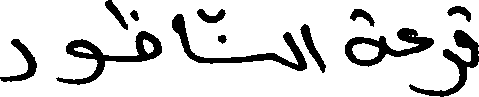ا: (300, 21, 326, 72), (169, 12, 195, 62)
ة: (343, 7, 382, 68)
ر: (430, 46, 467, 95), (0, 37, 36, 83)
ظ: (105, 0, 162, 63)
ع: (396, 26, 431, 60)
ق: (452, 3, 476, 72)
ل: (282, 23, 301, 70)
ن: (214, 34, 276, 62)
و: (56, 37, 104, 86)
